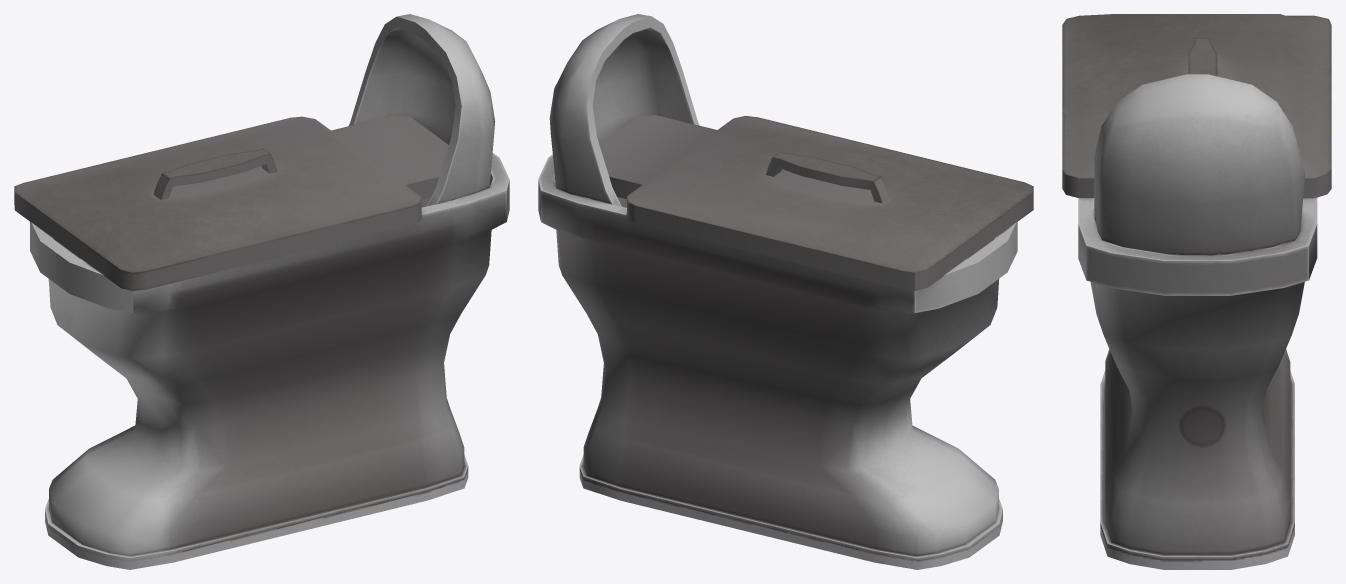
File: SM_Cover_Toilet.fbx
3 renders of one model, left to right at view 1: azimuth 30°, elevation 25°; view 2: azimuth 150°, elevation 25°; view 3: azimuth 270°, elevation 25°, orthographic. The views are drawn at different scales.
Visible parts, largest first — view 1: SM_Cover_Toilet; view 2: SM_Cover_Toilet; view 3: SM_Cover_Toilet.
Part boxes in pixels (x1,y1,x2,y2): SM_Cover_Toilet: [14, 14, 509, 569]; SM_Cover_Toilet: [538, 14, 1033, 569]; SM_Cover_Toilet: [1062, 14, 1331, 569].
Size of the model in its own units: 59.47 by 29.08 by 57.28.
1 material, 1 textured.
